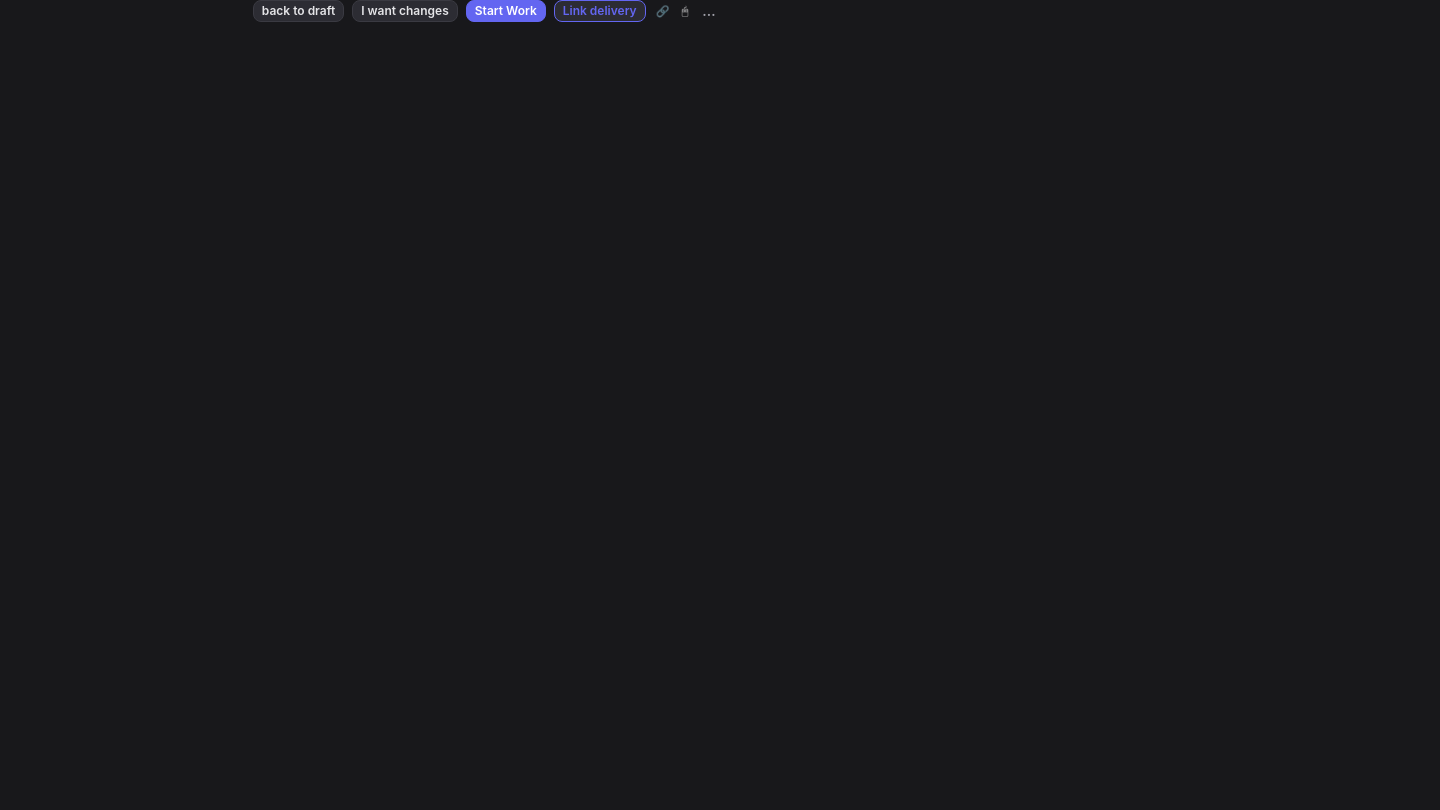
Test: IntentTitleBarActions.vue — 交付归属入口(三态) › 未关联时给出主色强调的「关联交付」,点击先请控制层补拉列表再开弹窗
Click the button with test id "intent-detail-link-delivery". click: [600, 11]
box: [554, 0, 646, 22]
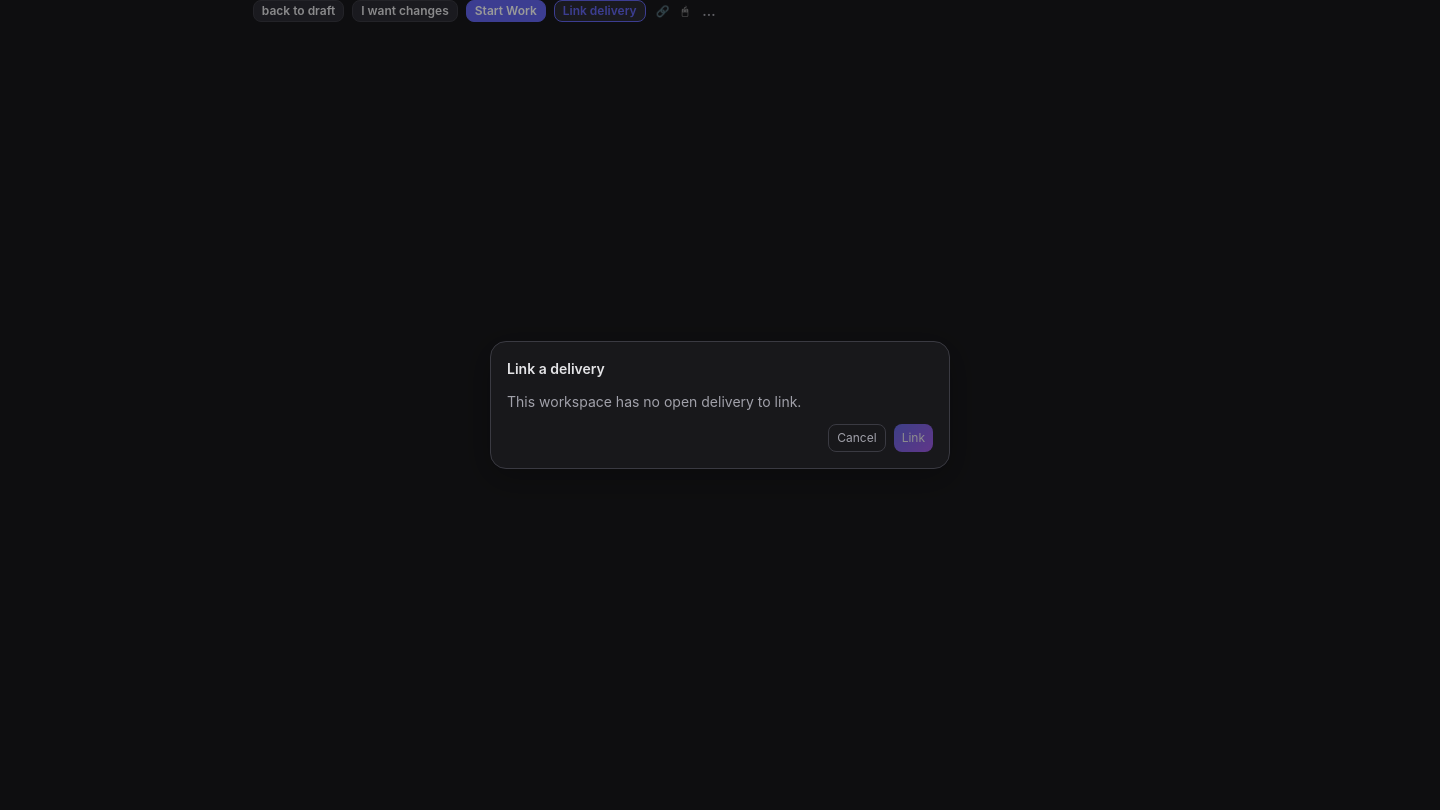
Expected: the element with test id "intent-link-delivery-overlay" is shown
